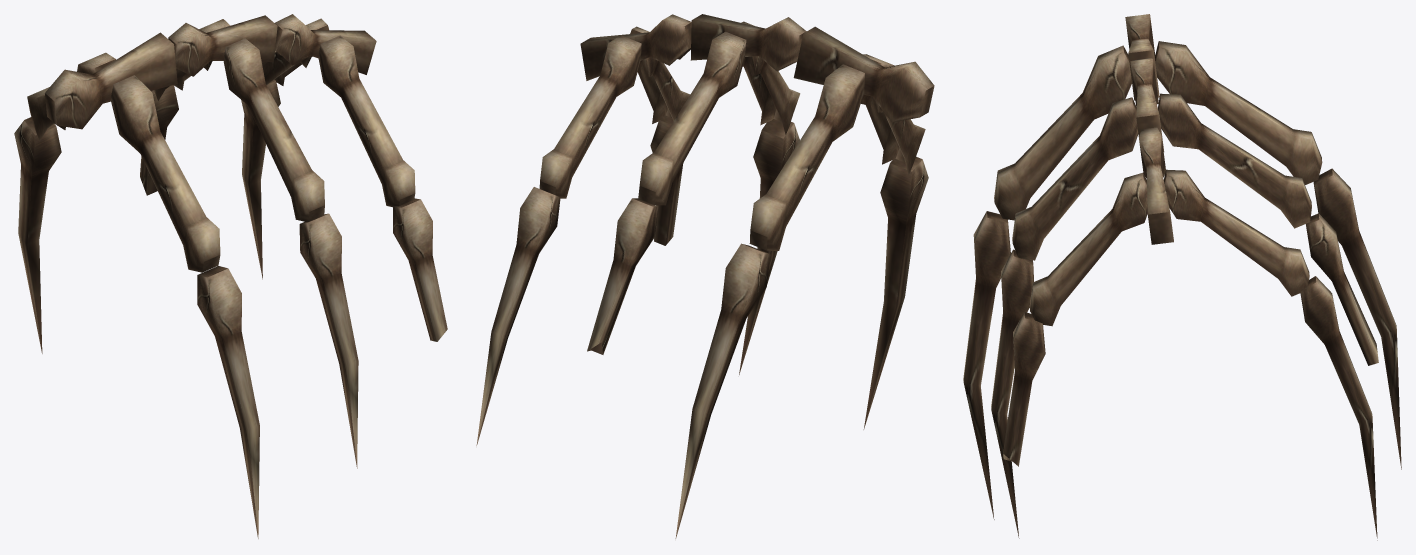
The model's file is KQZD_gutou_1.FBX.
3 renders of one model, left to right at view 1: azimuth 30°, elevation 25°; view 2: azimuth 150°, elevation 25°; view 3: azimuth 270°, elevation 25°, orthographic.
Visible parts, largest first — view 1: KQZD_gutou_1; view 2: KQZD_gutou_1; view 3: KQZD_gutou_1.
Boxes of the visible parts, box(x1,y1,x2,y2) form: KQZD_gutou_1: box(14, 14, 447, 538); KQZD_gutou_1: box(476, 14, 934, 538); KQZD_gutou_1: box(963, 14, 1401, 540).
Bounding box in the file's own units: 83.81 × 94.38 × 111.
